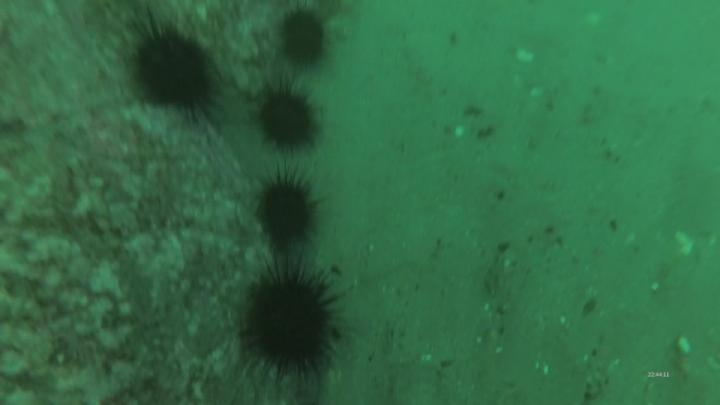echinus: (239, 264, 342, 380), (131, 26, 222, 115), (255, 172, 320, 252), (258, 87, 318, 153), (280, 13, 325, 71)
